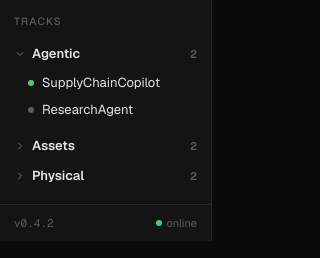
it: Sidebar track-group expand/collapse › collapses Agentic on click and hides its projects
What coordinates should you click on to do the following:
click the button with test id "track-toggle-agentic"
I would click on:
 (106, 54)
Its box is top-left (6, 40), bottom-right (205, 68).
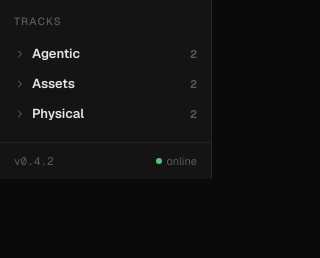
Check: the link with test id "project-row-supply-chain-copilot" is gone
